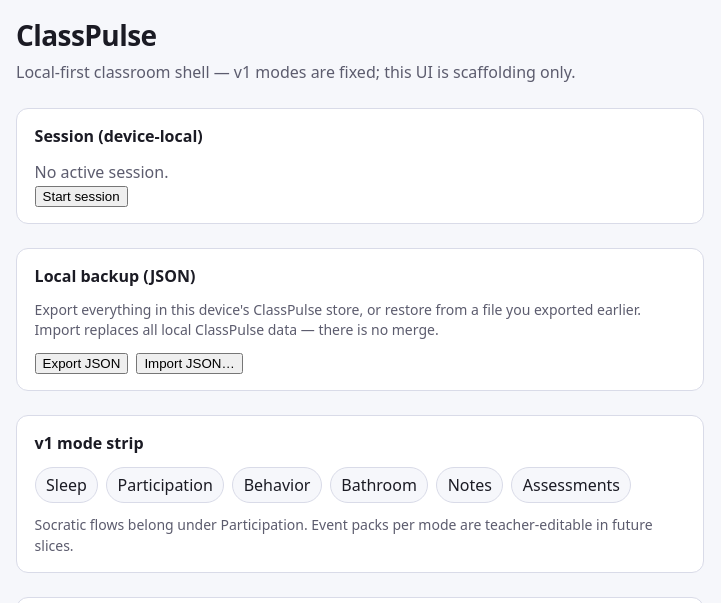
Test case: BehaviorPanel › adds a redirect event and shows it in the list
The width and height of the screenshot is (721, 603).
Click the button "Start session" at (81,196), box left=35, top=186, right=128, bottom=207
(page scrolled)
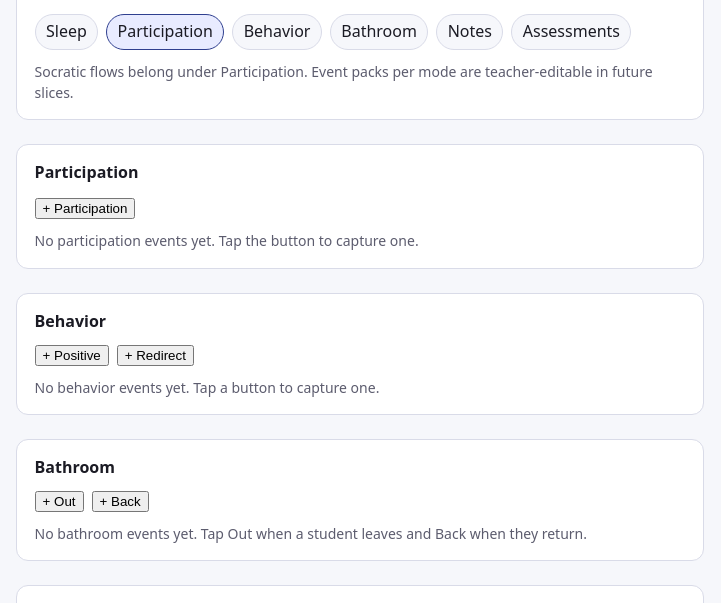
Click the button "+ Redirect" at (155,355), box left=117, top=345, right=194, bottom=366
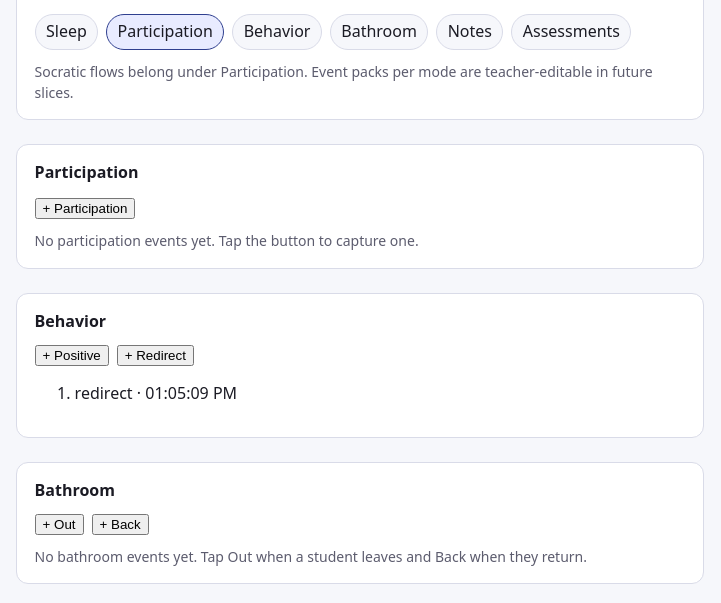
Check: the list item "redirect · 01:05:09 PM" is shown, box left=75, top=382, right=237, bottom=404
